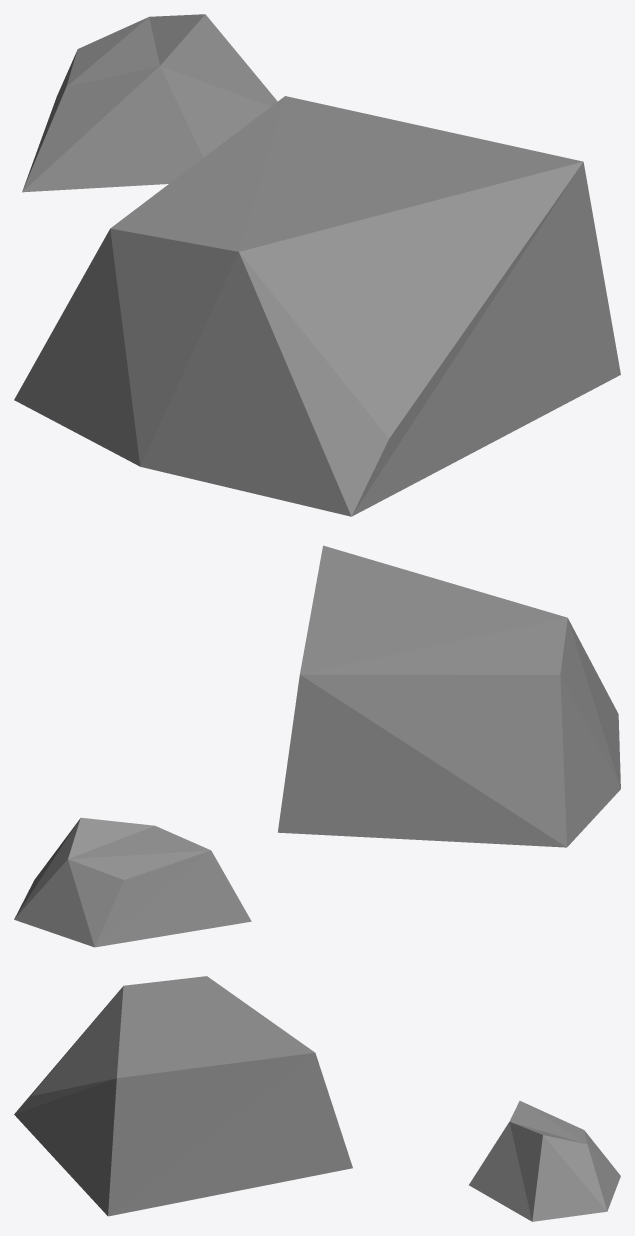
The model's file is Stone_B_21.FBX.
3 views of the same model, one above another, from view 1: azimuth 30°, elevation 25°; view 2: azimuth 150°, elevation 25°; view 3: azimuth 270°, elevation 25° (orthographic). The views are drawn at different scales.
Parts seen in each view (by area): view 1: Stone_B_21; view 2: Stone_B_21; view 3: Stone_B_21.
Part boxes in pixels (x1,y1,x2,y2): Stone_B_21: (14,14,620,516); Stone_B_21: (14,545,620,947); Stone_B_21: (14,976,620,1221).
Size of the model in its own units: 0.4335 by 0.1784 by 0.7585.
